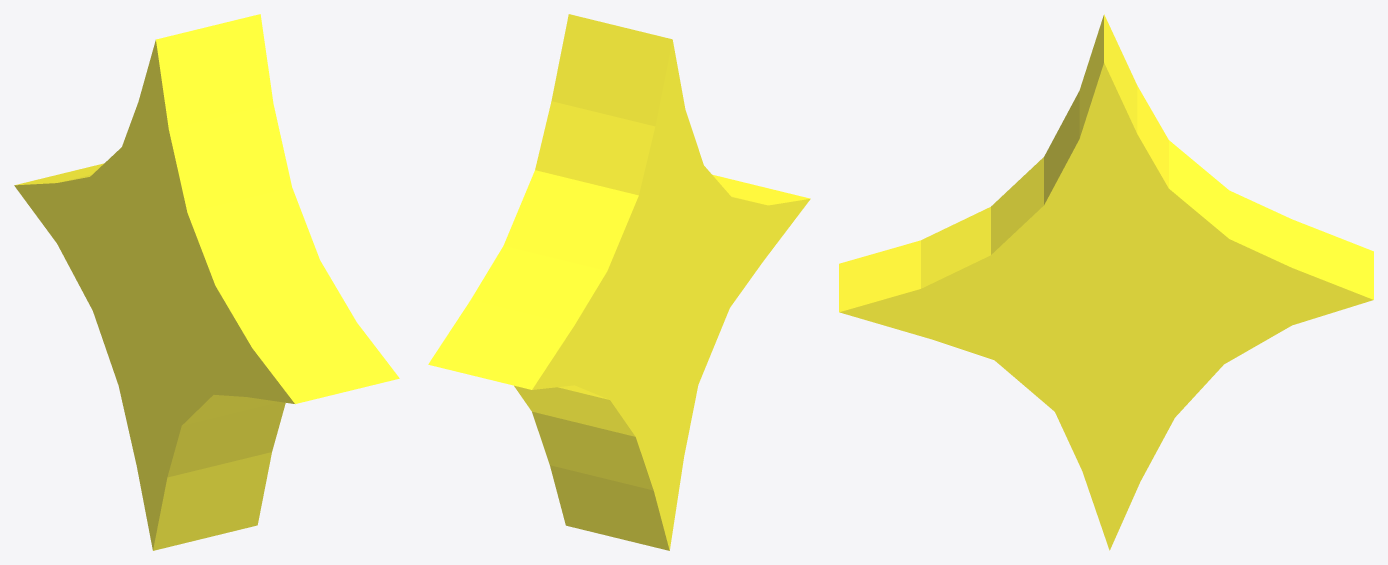
The model's file is stella.glb.
3 views of the same model, side by side, from view 1: azimuth 30°, elevation 25°; view 2: azimuth 150°, elevation 25°; view 3: azimuth 270°, elevation 25° (orthographic). The views are drawn at different scales.
Parts seen in each view (by area): view 1: Cube; view 2: Cube; view 3: Cube.
Boxes of the visible parts, x1=… form: Cube: x1=14, y1=14, x2=399, y2=550; Cube: x1=428, y1=14, x2=810, y2=550; Cube: x1=839, y1=14, x2=1373, y2=550.
Bounding box in the file's own units: 0.074 × 0.3469 × 0.3442.
